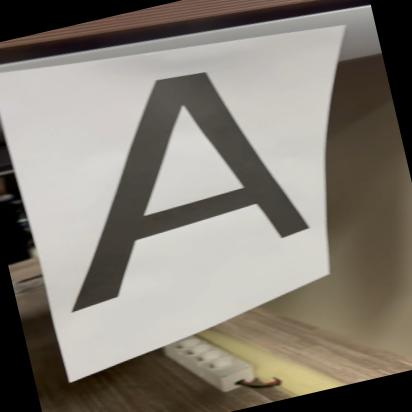seat: (3, 37, 324, 321)
